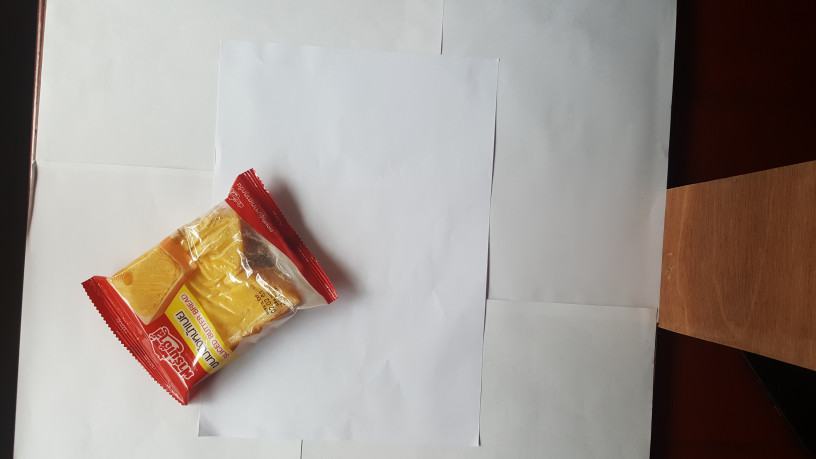farmhouse-bread-butter: (65, 160, 343, 415)
